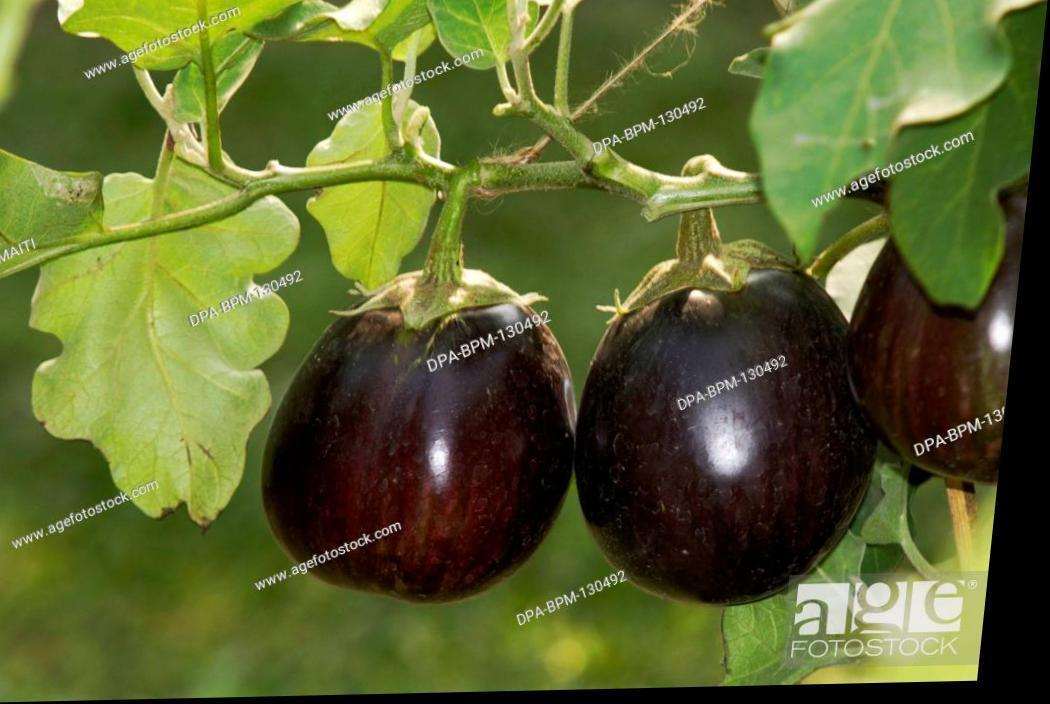eggplant: (318, 260, 912, 634)
